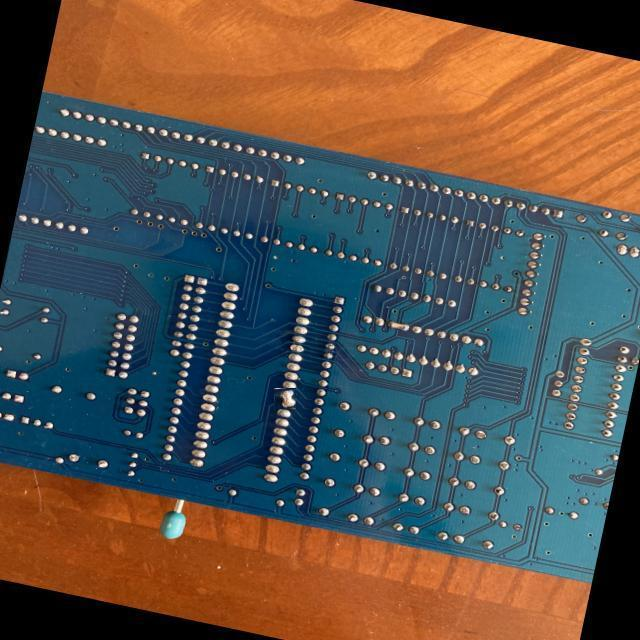damged: (274, 388, 296, 409), (386, 316, 412, 333)
